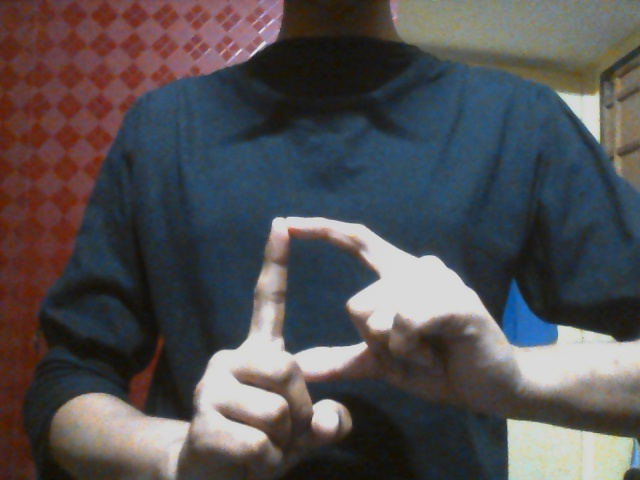D: (192, 212, 478, 473)
